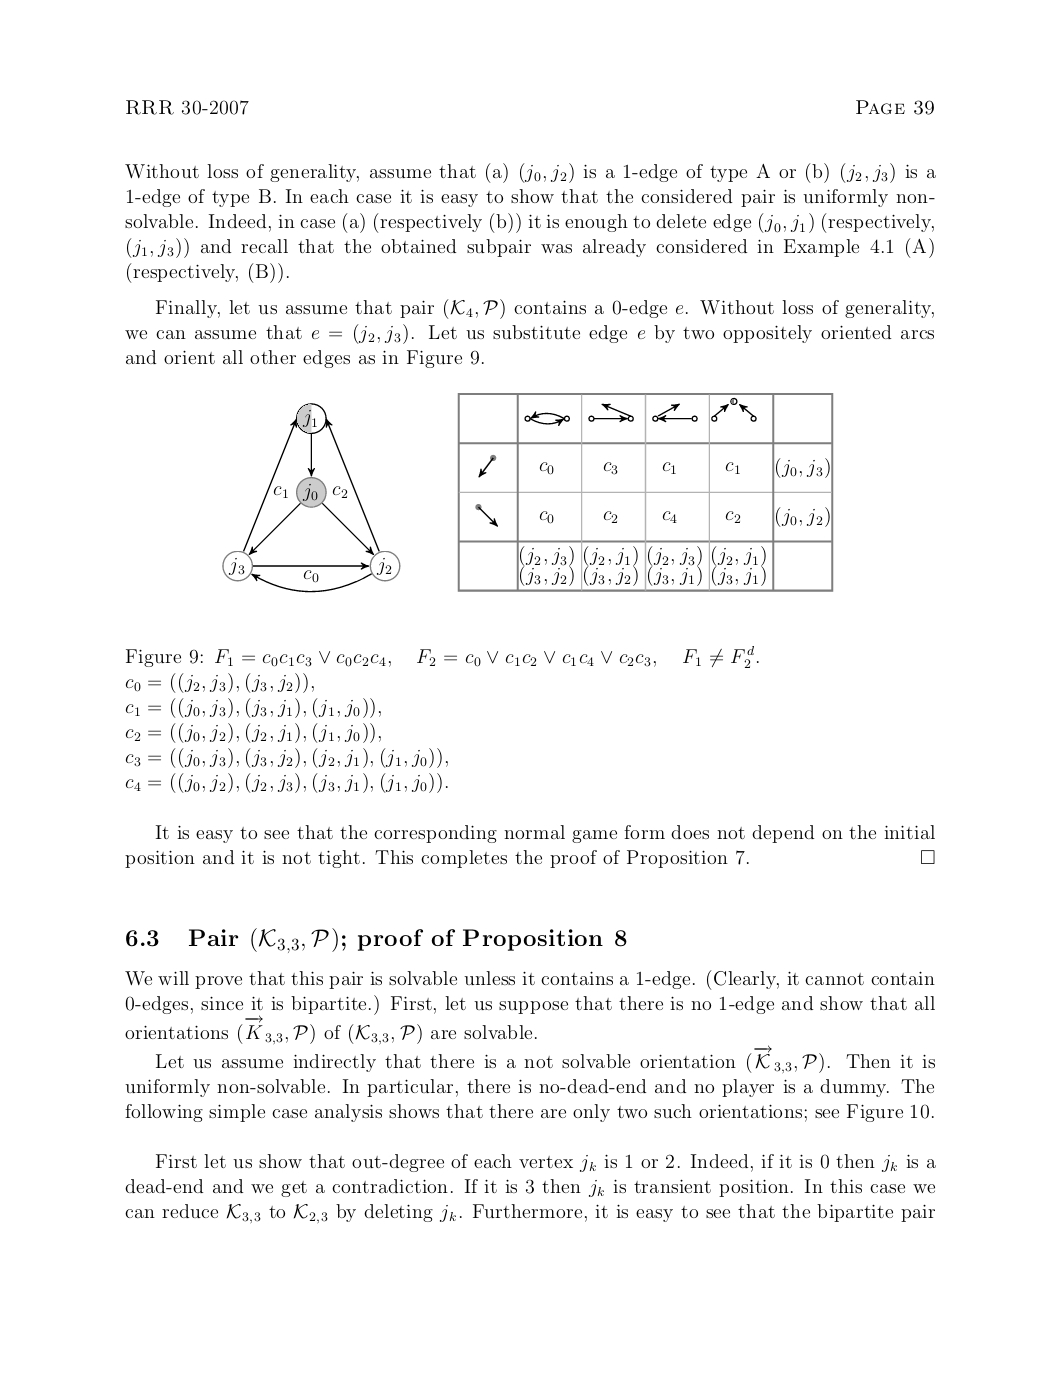figure: (457, 393, 833, 591), (222, 403, 400, 592)
formula: (125, 645, 758, 668), (125, 747, 447, 768), (125, 772, 447, 793), (125, 697, 380, 718), (125, 722, 380, 743), (125, 672, 313, 693)
